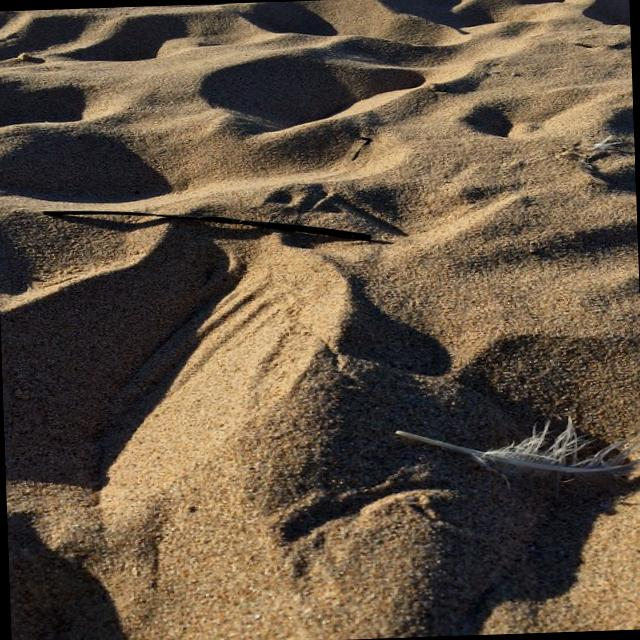Trash: (41, 192, 392, 268), (390, 409, 640, 493)
